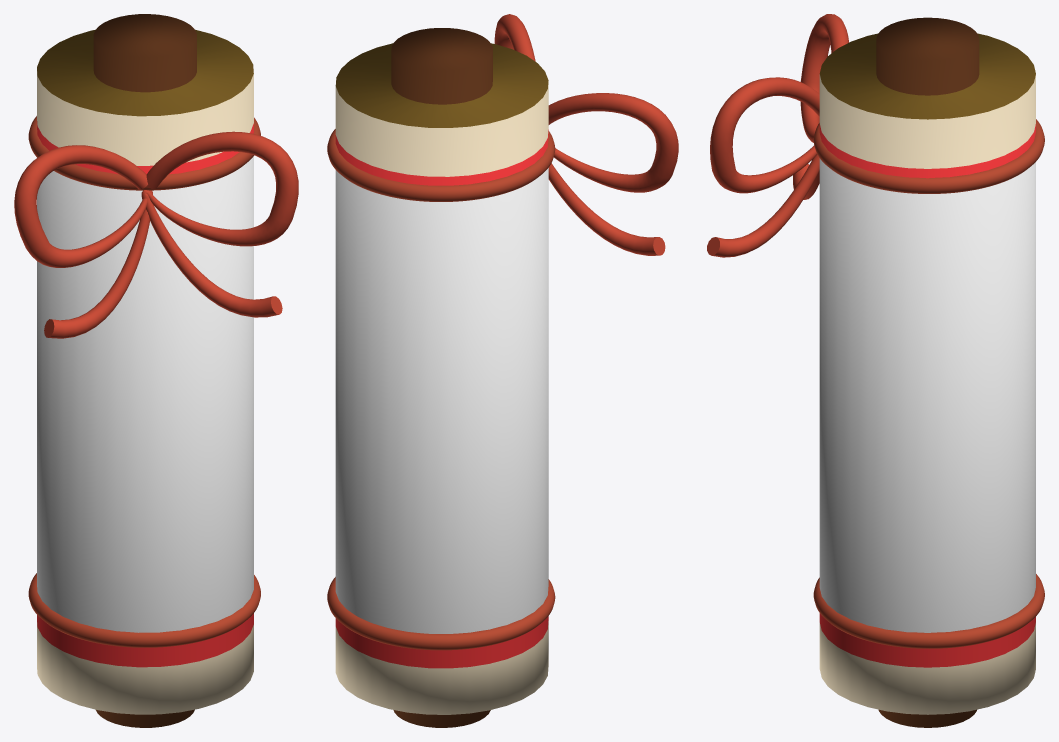
The model's file is Ninja-Scroll.fbx.
3 views of the same model, side by side, from view 1: azimuth 30°, elevation 25°; view 2: azimuth 150°, elevation 25°; view 3: azimuth 270°, elevation 25° (orthographic).
Parts seen in each view (by area): view 1: Cylinder, BézierCurve.001, BézierCurve, BézierCircle.001, BézierCircle; view 2: Cylinder, BézierCurve, BézierCircle, BézierCircle.001, BézierCurve.001; view 3: Cylinder, BézierCurve.001, BézierCircle, BézierCircle.001, BézierCurve.
Part boxes in pixels (box(x1,y1,x2,y2)): Cylinder: box(37, 14, 253, 727); BézierCurve.001: box(141, 131, 298, 317); BézierCurve: box(14, 145, 152, 338); BézierCircle.001: box(28, 573, 260, 647); BézierCircle: box(28, 116, 260, 190); Cylinder: box(335, 28, 548, 727); BézierCurve: box(548, 93, 678, 255); BézierCircle: box(327, 129, 555, 201); BézierCircle.001: box(327, 577, 555, 650); BézierCurve.001: box(494, 14, 535, 61); Cylinder: box(819, 17, 1035, 727); BézierCurve.001: box(707, 77, 819, 257); BézierCircle: box(813, 119, 1044, 193); BézierCircle.001: box(813, 574, 1044, 648); BézierCurve: box(793, 14, 848, 199).
Size of the model in its own units: 303 by 681 by 312.
